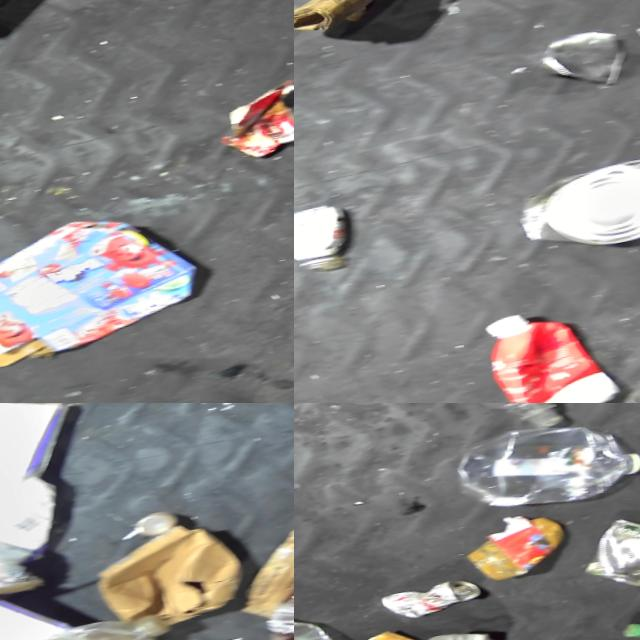can: (496, 143, 640, 264), (558, 505, 640, 600), (526, 26, 629, 101), (364, 574, 478, 626), (614, 534, 640, 620), (120, 507, 174, 541)
non_white_jug: (468, 298, 617, 403)
plastic_bottle: (432, 403, 640, 525), (389, 403, 567, 454), (0, 604, 177, 640)
